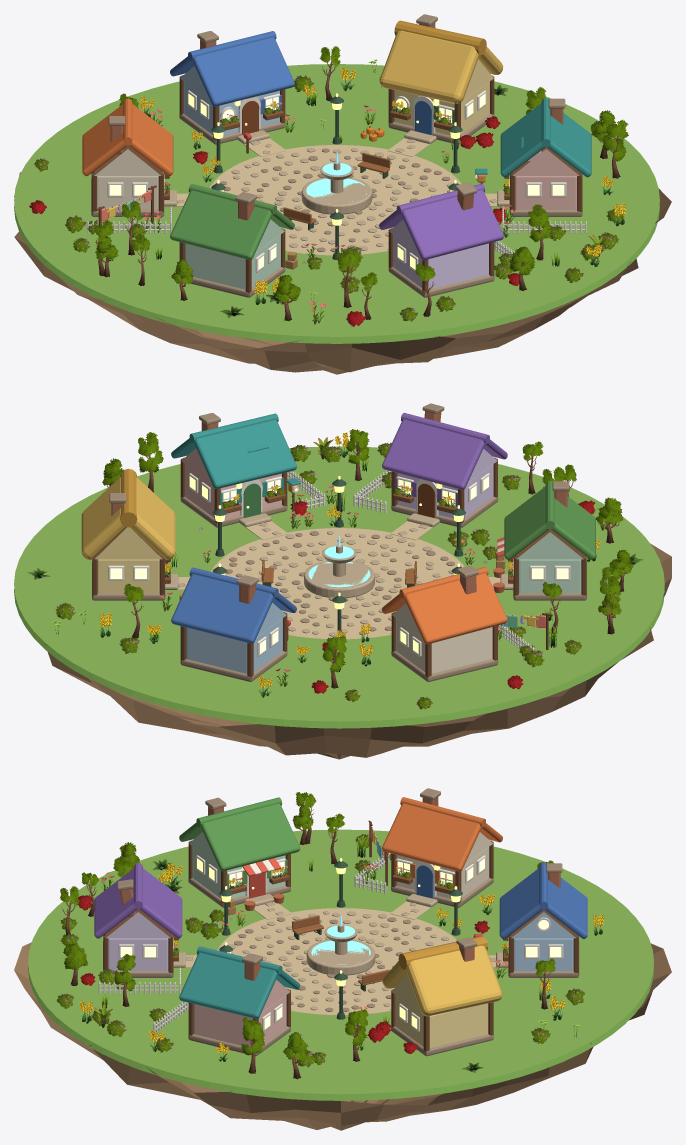
File: courtyard.glb
3 views of the same model, one above another, from view 1: azimuth 30°, elevation 25°; view 2: azimuth 150°, elevation 25°; view 3: azimuth 270°, elevation 25° (orthographic). The views are drawn at different scales.
Parts seen in each view (by area): view 1: Grass, Cliff, VIS_path, VIS_stone_dark, VIS_roof_blue, VIS_thatch, VIS_stone, VIS_roof_purple, VIS_roof_green, GrassRim, VIS_roof_teal, VIS_roof_orange (+24 smaller); view 2: Grass, VIS_path, Cliff, VIS_stone_dark, VIS_roof_teal, VIS_roof_purple, VIS_stone, VIS_roof_orange, VIS_roof_blue, GrassRim, VIS_thatch, VIS_roof_green (+24 smaller); view 3: Grass, Cliff, VIS_path, VIS_stone_dark, VIS_roof_orange, VIS_roof_green, VIS_thatch, VIS_stone, VIS_roof_teal, GrassRim, VIS_roof_blue, VIS_roof_purple (+25 smaller).
Boxes of the visible parts, x1,y1,x2,y2 form: Grass: (14, 64, 659, 336); Cliff: (14, 172, 671, 374); VIS_path: (168, 138, 502, 255); VIS_stone_dark: (91, 14, 582, 297); VIS_roof_blue: (170, 31, 294, 114); VIS_thatch: (379, 30, 503, 103); VIS_stone: (164, 130, 509, 250); VIS_roof_purple: (379, 183, 503, 260); VIS_roof_green: (170, 184, 294, 259); GrassRim: (14, 205, 659, 343); VIS_roof_teal: (475, 97, 591, 177); VIS_roof_orange: (82, 98, 173, 176); Grass: (14, 446, 664, 721); VIS_path: (177, 521, 500, 639); Cliff: (45, 445, 671, 759); VIS_stone_dark: (92, 403, 586, 681); VIS_roof_teal: (171, 413, 300, 507); VIS_roof_purple: (382, 412, 507, 507); VIS_stone: (165, 513, 513, 636); VIS_roof_orange: (382, 567, 507, 644); VIS_roof_blue: (171, 567, 296, 643); GrassRim: (14, 588, 664, 728); VIS_thatch: (81, 477, 175, 559); VIS_roof_green: (504, 481, 595, 559); Grass: (28, 829, 653, 1094); Cliff: (14, 871, 671, 1130); VIS_path: (185, 901, 495, 1014); VIS_stone_dark: (103, 788, 579, 1056); VIS_roof_orange: (382, 797, 502, 887); VIS_roof_green: (179, 797, 300, 887); VIS_thatch: (382, 945, 502, 1016); VIS_stone: (173, 894, 508, 1010); VIS_roof_teal: (179, 946, 300, 1018); GrassRim: (28, 966, 653, 1100); VIS_roof_blue: (499, 862, 587, 938); VIS_roof_purple: (94, 863, 182, 938).
Bounding box in the file's own units: 42.59 × 19.47 × 44.15.
68 materials, 21 textured.
